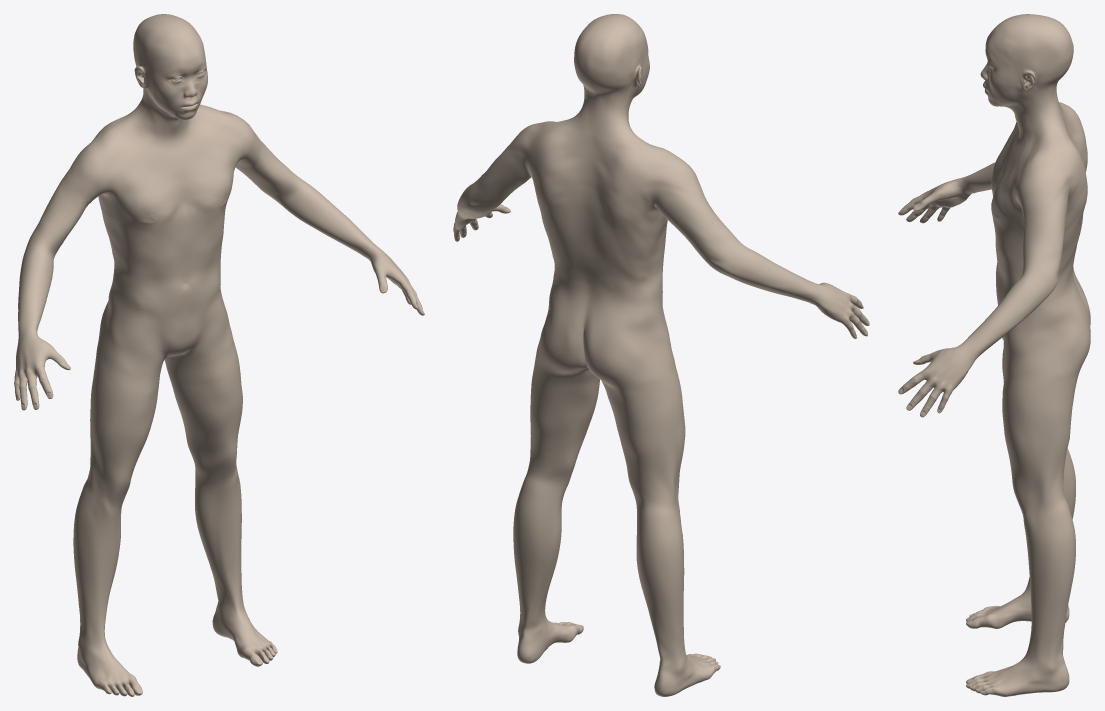
File: male-surface.glb
3 renders of one model, left to right at view 1: azimuth 30°, elevation 25°; view 2: azimuth 150°, elevation 25°; view 3: azimuth 270°, elevation 25°, orthographic.
Visible parts, largest first — view 1: body; view 2: body; view 3: body.
Boxes of the visible parts, x1,y1,x2,y2 form: body: (14,14,424,696); body: (453,14,869,696); body: (898,14,1090,696).
Size of the model in its own units: 1.14 by 1.75 by 0.4769.
